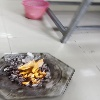fire: (18, 58, 46, 85)
